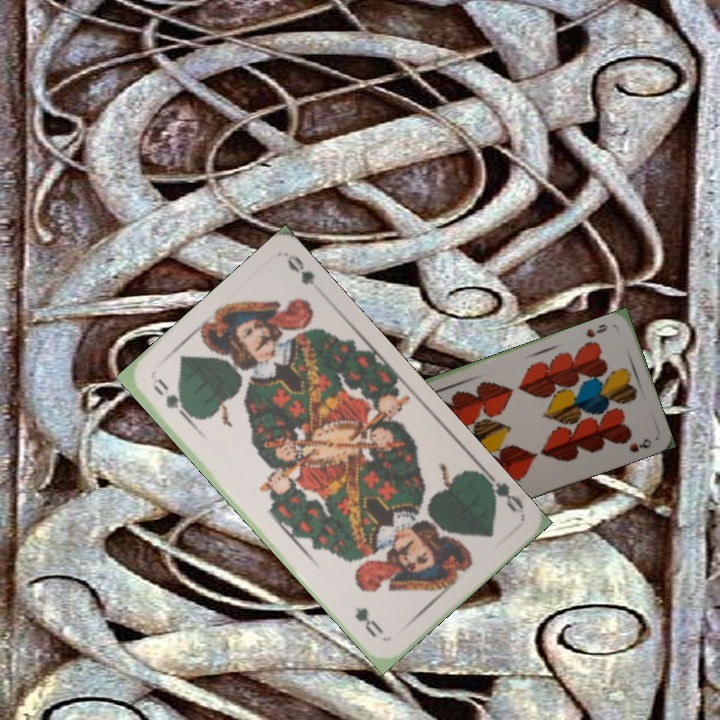GO: (479, 467, 527, 516), (149, 381, 195, 424)
H9: (582, 320, 610, 340)
